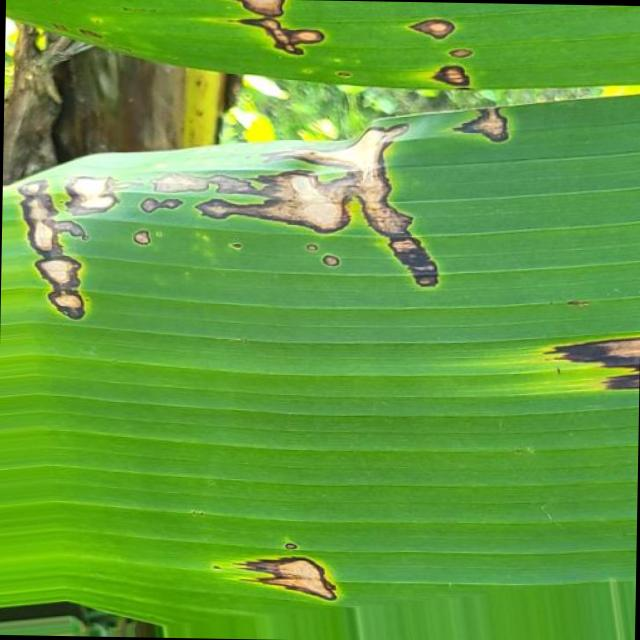Banana_Black_Sigatoka: (0, 97, 580, 360), (219, 0, 561, 139), (187, 508, 462, 640)
